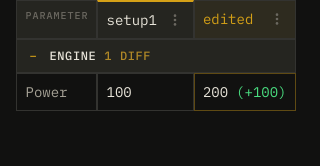
Test: ComparisonTable save by overwriting button state › enables 'Save by overwriting...' when there are pending edits
The image size is (320, 166).
Click the button titled "Actions" next to "edited": click(276, 19) [266,9,286,29]
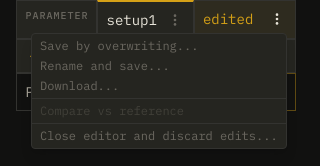
Now the button "Save by overwriting..." is enabled, box [32,36,286,56]
